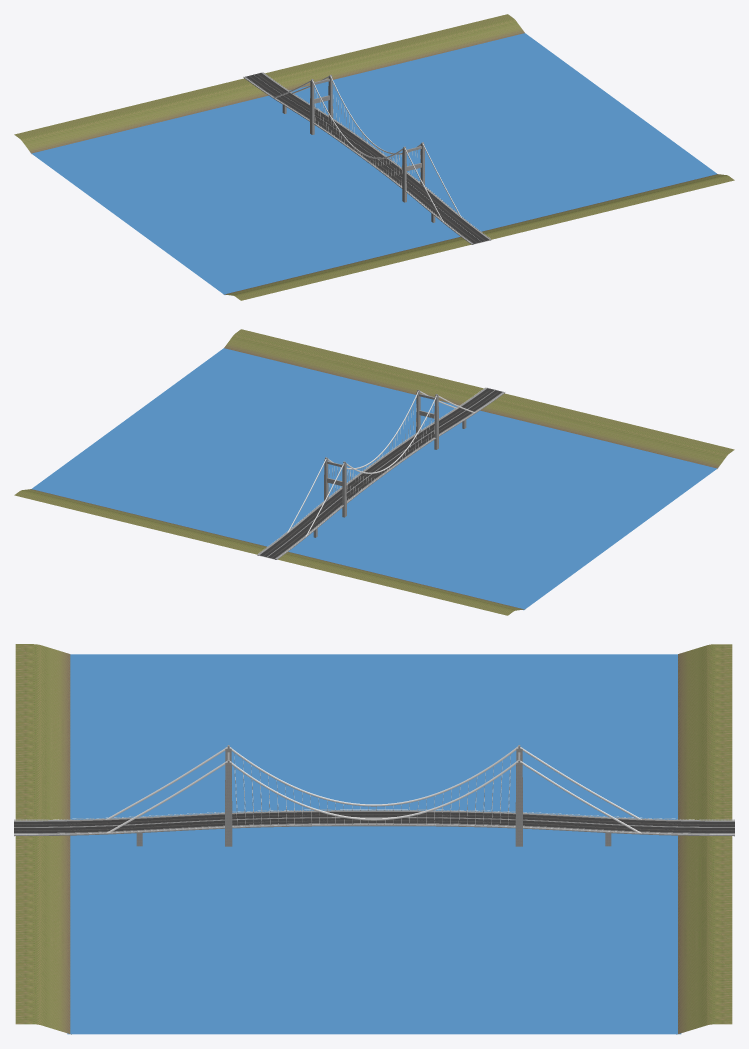
3 views of the same model, one above another, from view 1: azimuth 30°, elevation 25°; view 2: azimuth 150°, elevation 25°; view 3: azimuth 270°, elevation 25° (orthographic). The views are drawn at different scales.
Visible parts, largest first — view 1: watter.002, Ground.004, Bridge003, Ground.005; view 2: watter.002, Ground.005, Bridge003, Ground.004; view 3: watter.002, Ground.005, Ground.004, Bridge003.
Boxes of the visible parts, x1,y1,x2,y2 form: watter.002: (31, 33, 716, 294); Ground.004: (14, 14, 524, 153); Bridge003: (243, 72, 491, 244); Ground.005: (224, 174, 734, 300); watter.002: (32, 348, 717, 610); Ground.005: (224, 329, 734, 468); Bridge003: (257, 387, 505, 559); Ground.004: (14, 489, 524, 615); watter.002: (67, 654, 681, 1034); Ground.005: (15, 644, 71, 1034); Ground.004: (676, 644, 732, 1034); Bridge003: (14, 745, 734, 846).
Size of the model in its own units: 8.79 by 1 by 7.05.
Materials: 5 (3 with a texture image).
